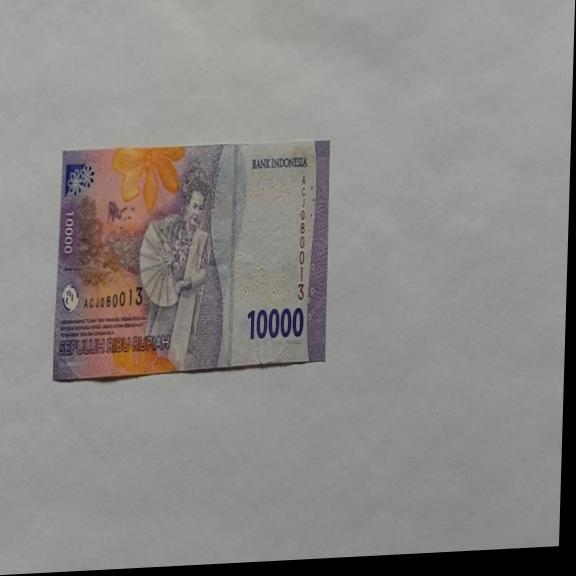Kertas: (52, 135, 332, 383), (246, 304, 305, 342)
